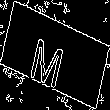M_N: (35, 24, 75, 86)
